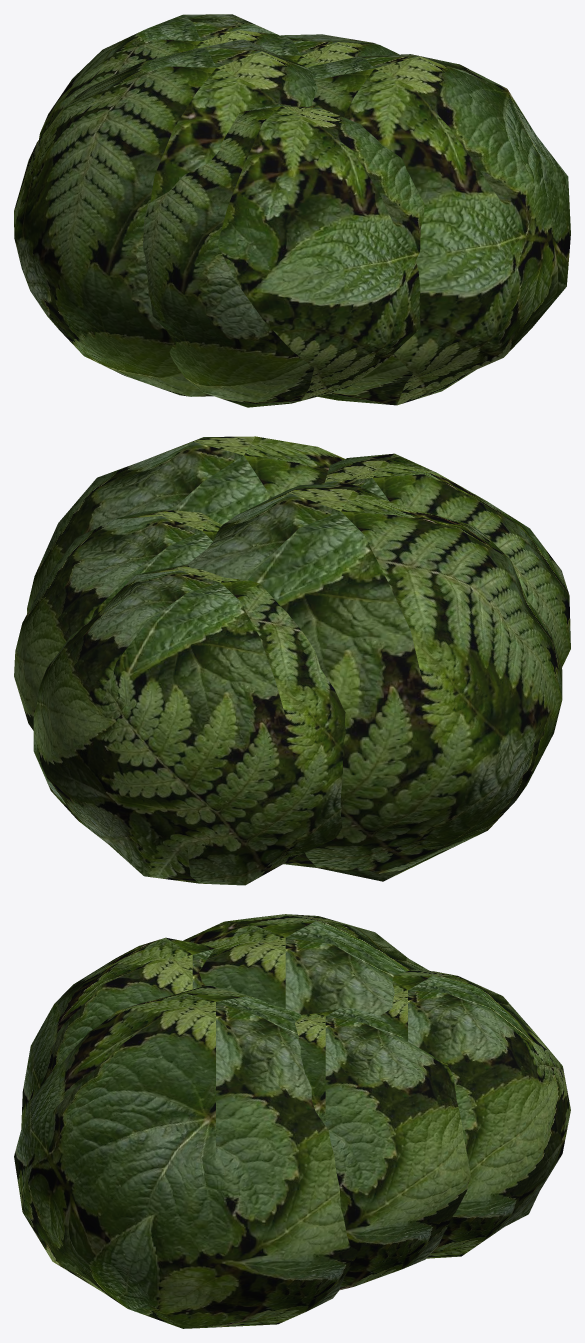
File: dense-bush-v01.glb
3 renders of one model, top to bottom at view 1: azimuth 30°, elevation 25°; view 2: azimuth 150°, elevation 25°; view 3: azimuth 270°, elevation 25°, orthographic. The views are drawn at different scales.
Visible parts, largest first — view 1: dense-bush; view 2: dense-bush; view 3: dense-bush.
Boxes of the visible parts, bbox=[...] form: dense-bush: bbox=[14, 14, 570, 407]; dense-bush: bbox=[14, 436, 570, 885]; dense-bush: bbox=[14, 914, 570, 1328].
Bounding box in the file's own units: 2.24 × 1.48 × 2.32.
1 material, 1 textured.
